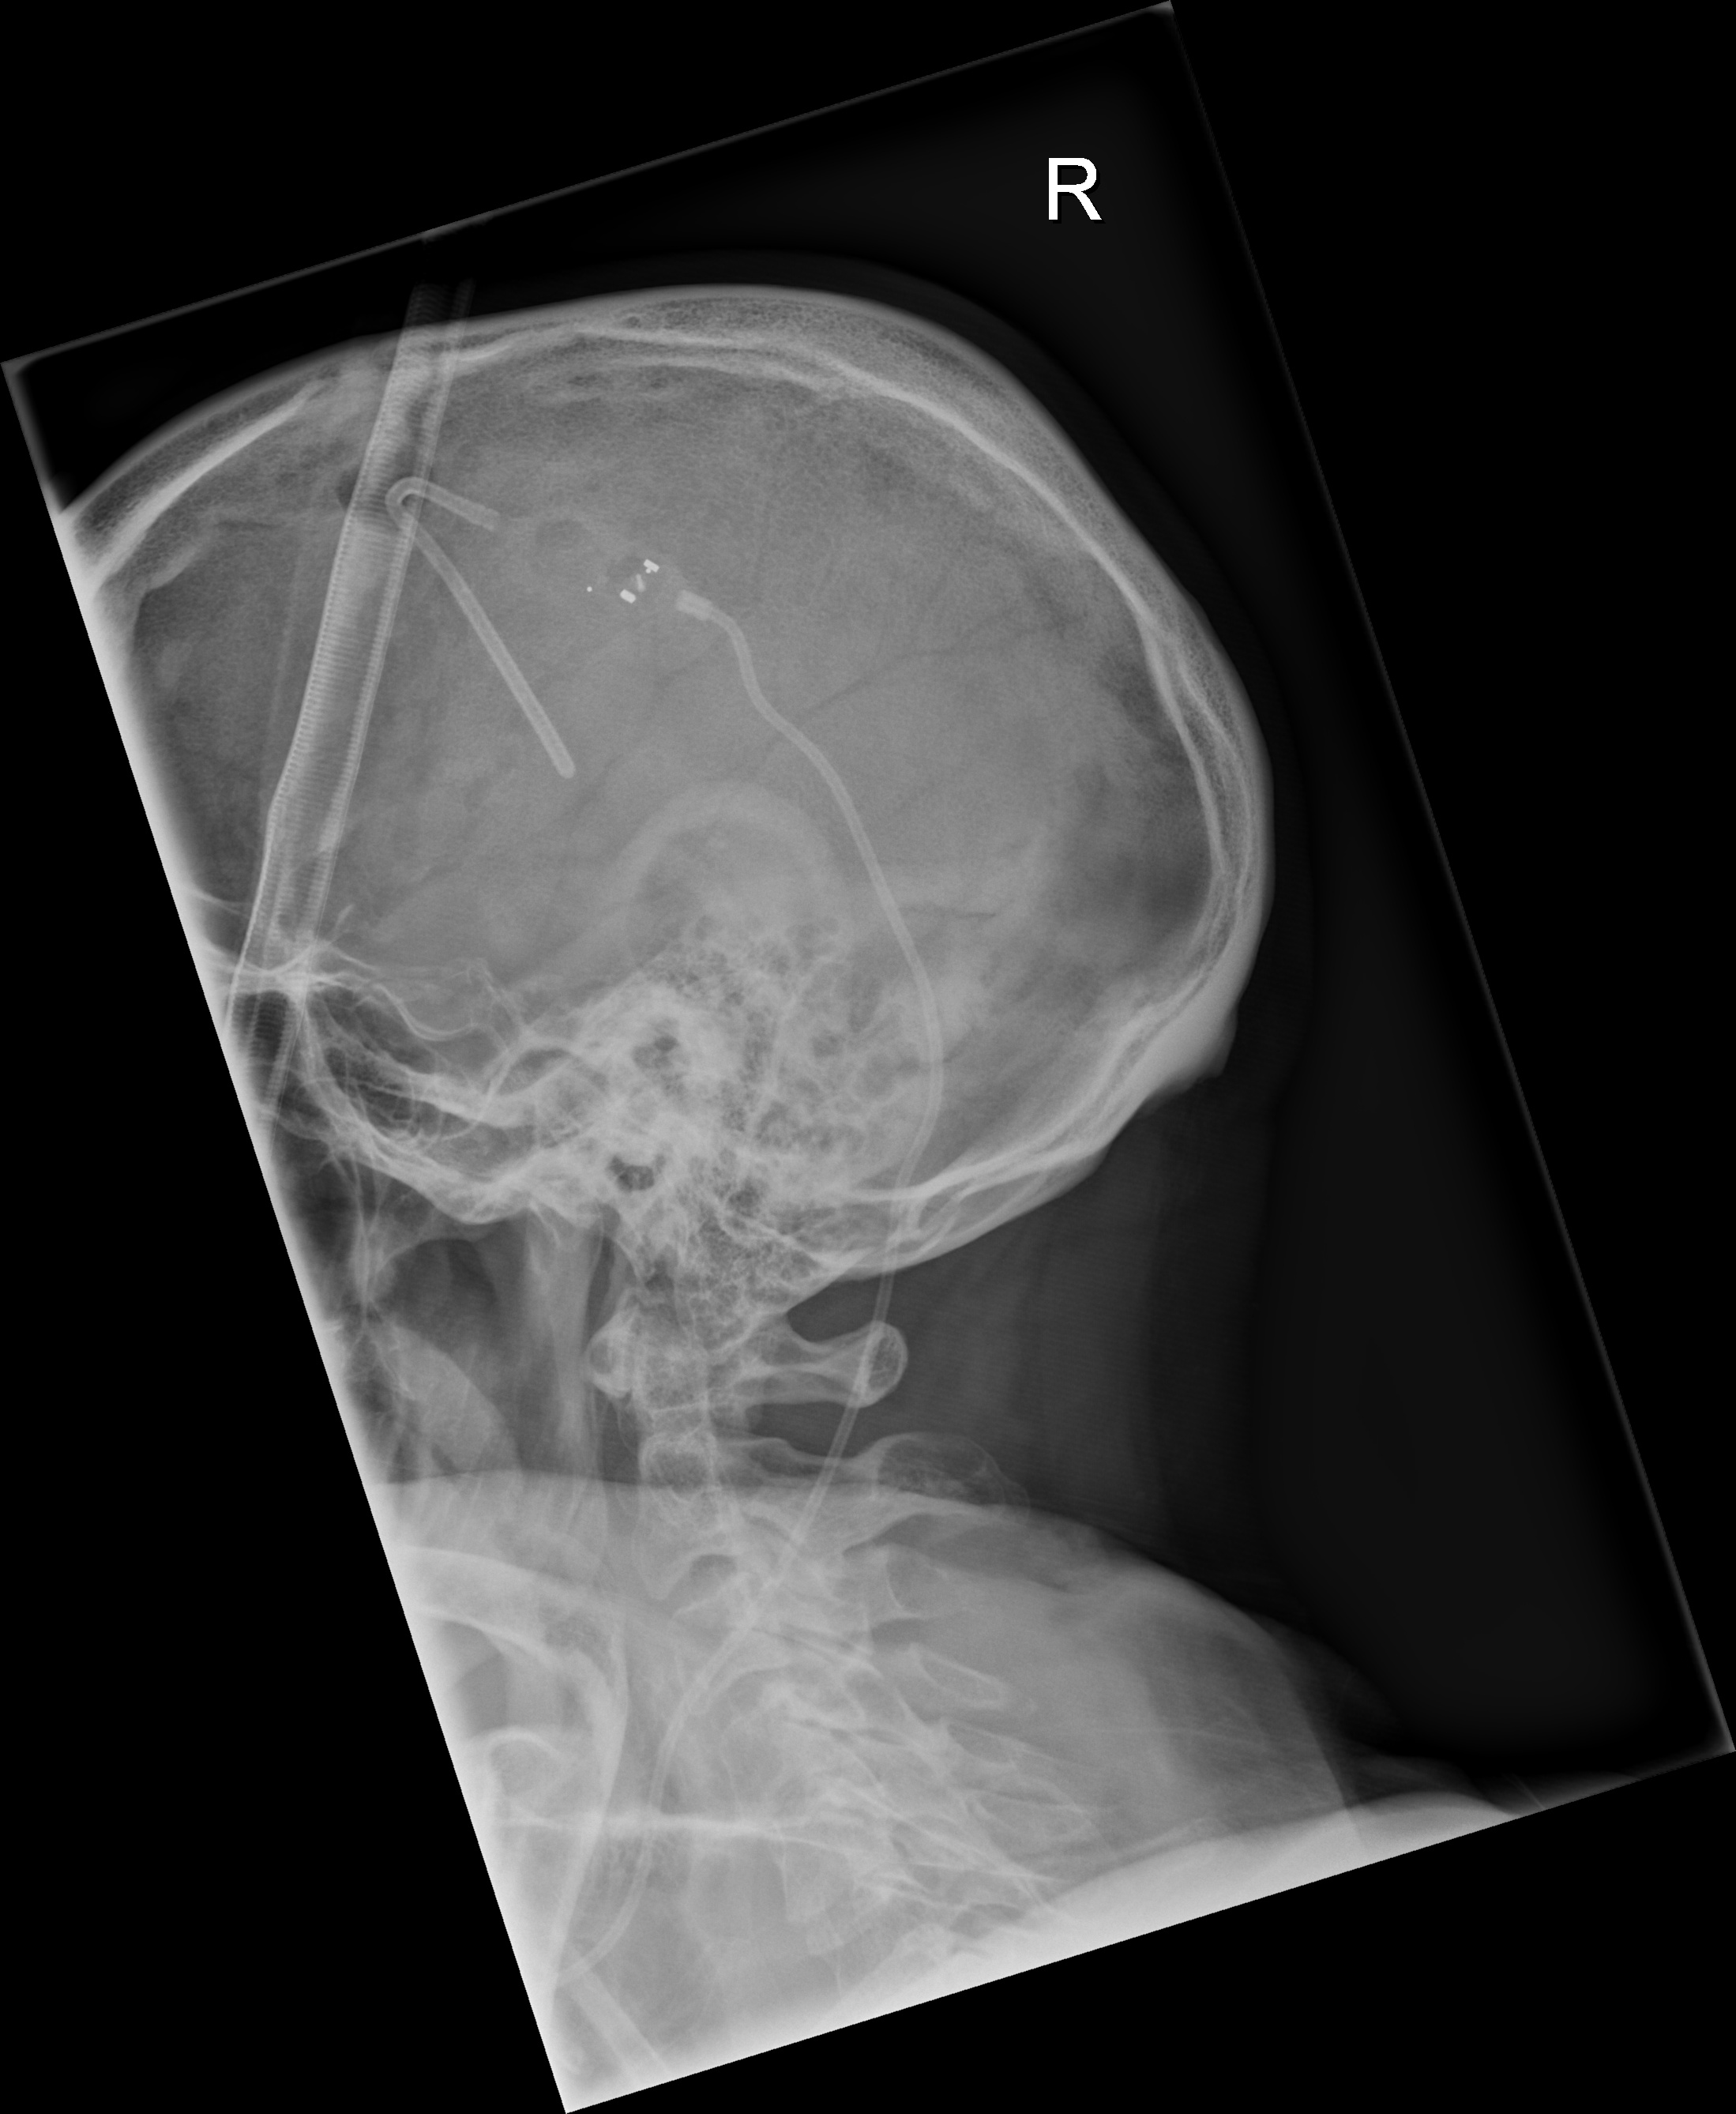Codman Certas: (581, 536, 681, 623)
